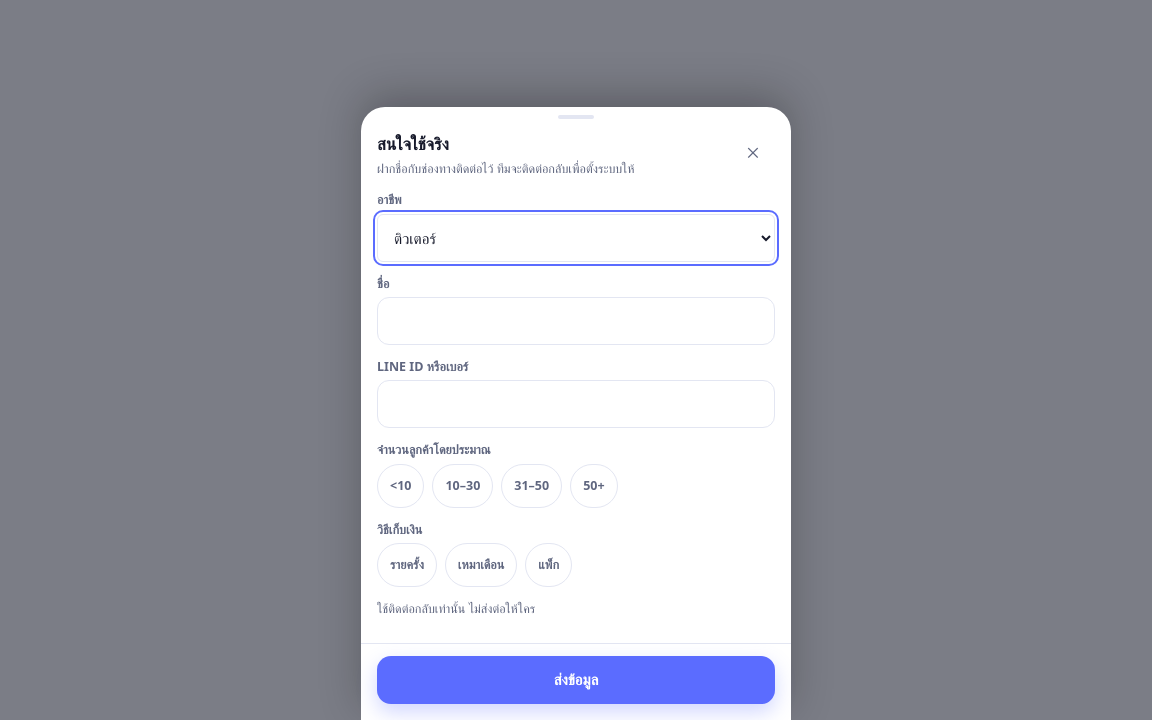
Test: ปลายทางฟอร์มจองสิทธิ์ › ส่ง JSON ที่มีเฉพาะช่องในฟอร์ม
Type "ครูมายด์" into the field labelled "ชื่อ". click: (576, 321)
box: top-left (377, 297), bottom-right (775, 345)
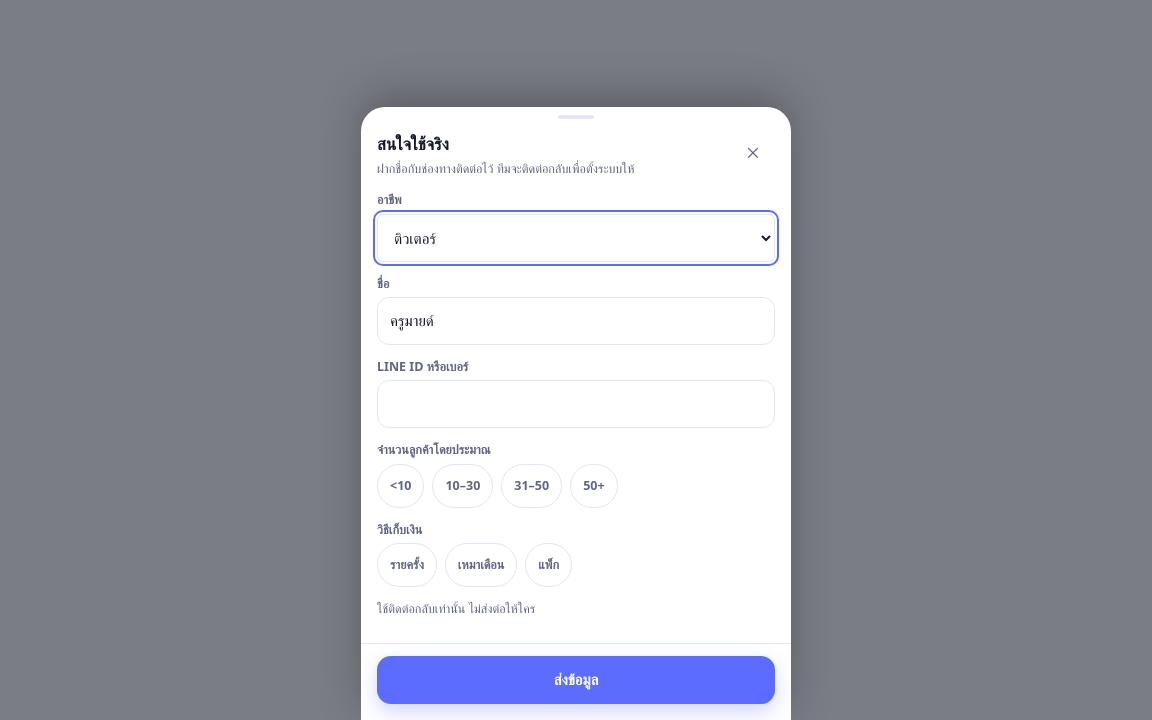
Type "@mind" into the field labelled "LINE ID หรือเบอร์". click: (576, 404)
box: top-left (377, 380), bottom-right (775, 428)
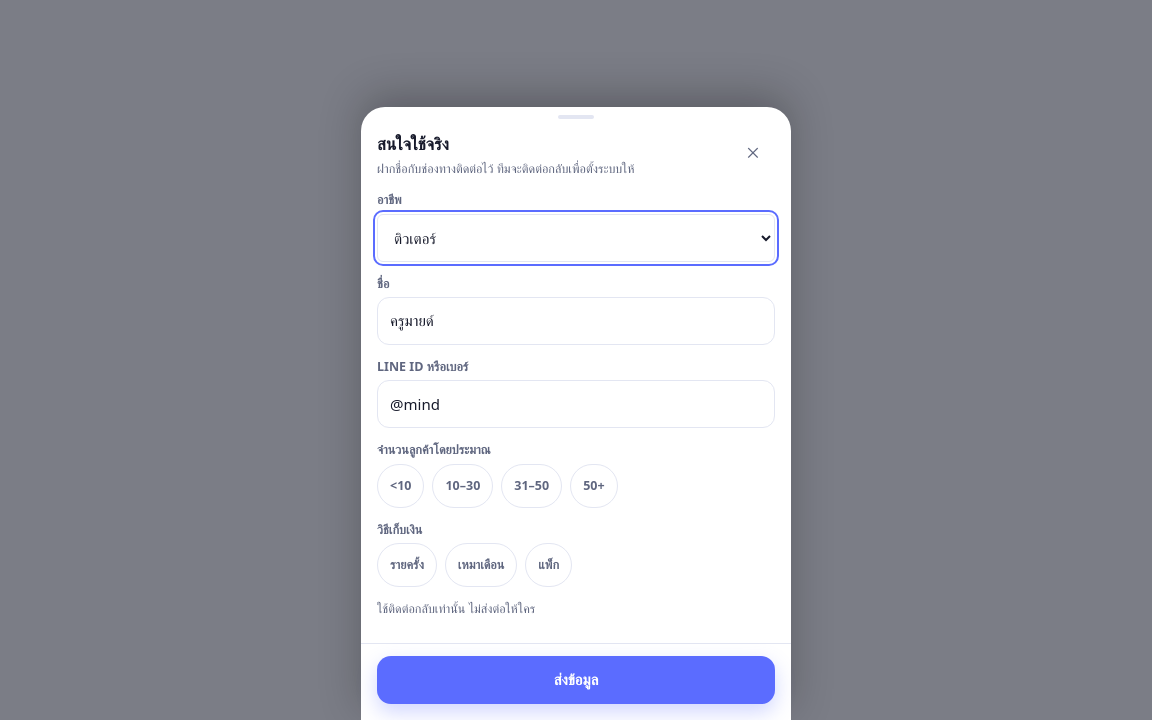
Click the button "ส่งข้อมูล". click: (576, 680)
box: top-left (377, 656), bottom-right (775, 704)
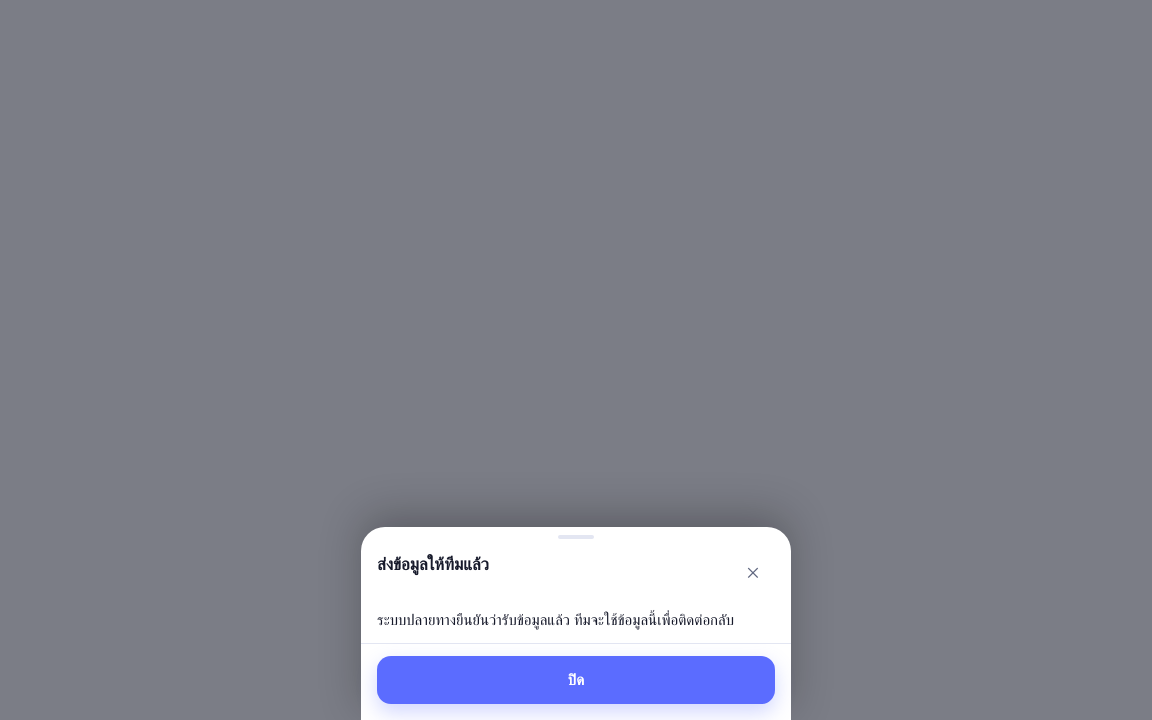
Check: the heading "ส่งข้อมูลให้ทีมแล้ว" is shown, box top-left (377, 551), bottom-right (489, 577)
